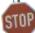Stop sign: (0, 0, 34, 32)
